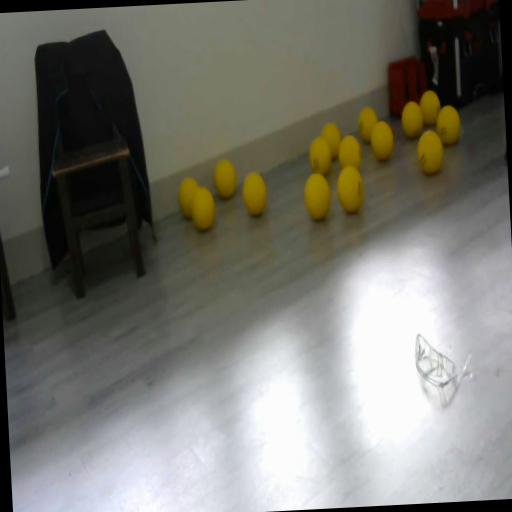FUEL: (334, 164, 366, 214), (302, 170, 332, 220), (241, 170, 269, 218), (416, 130, 445, 174), (176, 174, 202, 220), (435, 104, 462, 146), (369, 118, 395, 160), (213, 157, 238, 199), (336, 133, 362, 172), (400, 100, 424, 140), (418, 88, 442, 126), (320, 122, 342, 160)
